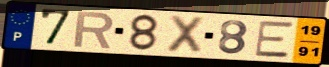7: (39, 7, 73, 48)
8: (127, 13, 162, 53), (218, 19, 250, 56)
E: (253, 21, 295, 59)
R: (72, 10, 117, 50)
X: (164, 14, 208, 56)
